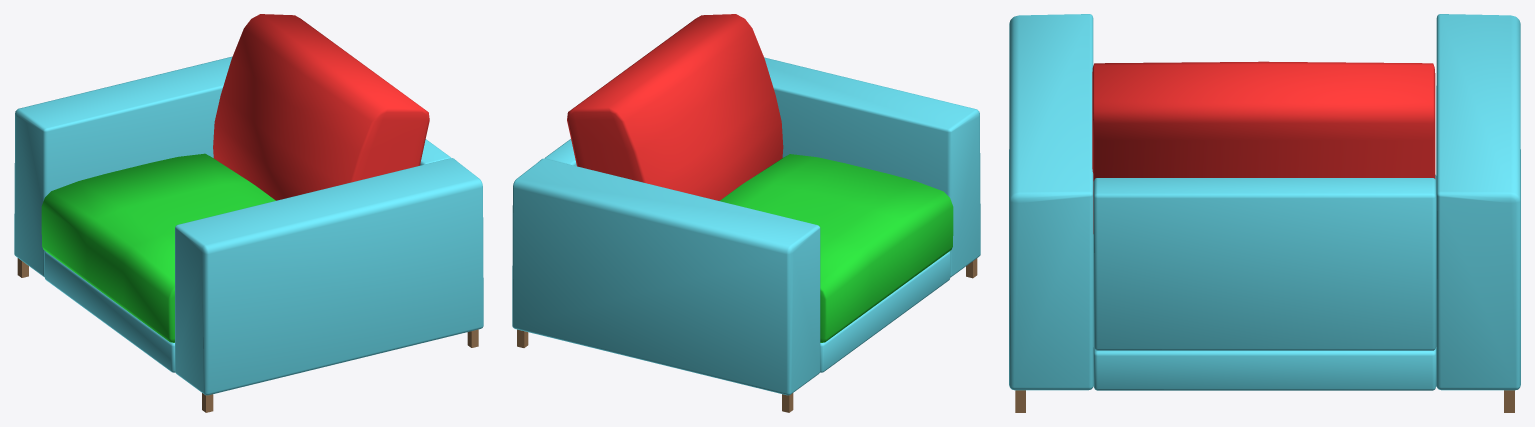
The model's file is chair_4.FBX.
3 renders of one model, left to right at view 1: azimuth 30°, elevation 25°; view 2: azimuth 150°, elevation 25°; view 3: azimuth 270°, elevation 25°, orthographic. The views are drawn at different scales.
Visible parts, largest first — view 1: chair_4; view 2: chair_4; view 3: chair_4.
Boxes of the visible parts, bbox=[...] form: chair_4: bbox=[14, 14, 483, 412]; chair_4: bbox=[512, 14, 980, 412]; chair_4: bbox=[1009, 14, 1520, 412].
Size of the model in its own units: 1 by 0.7812 by 1.18.
